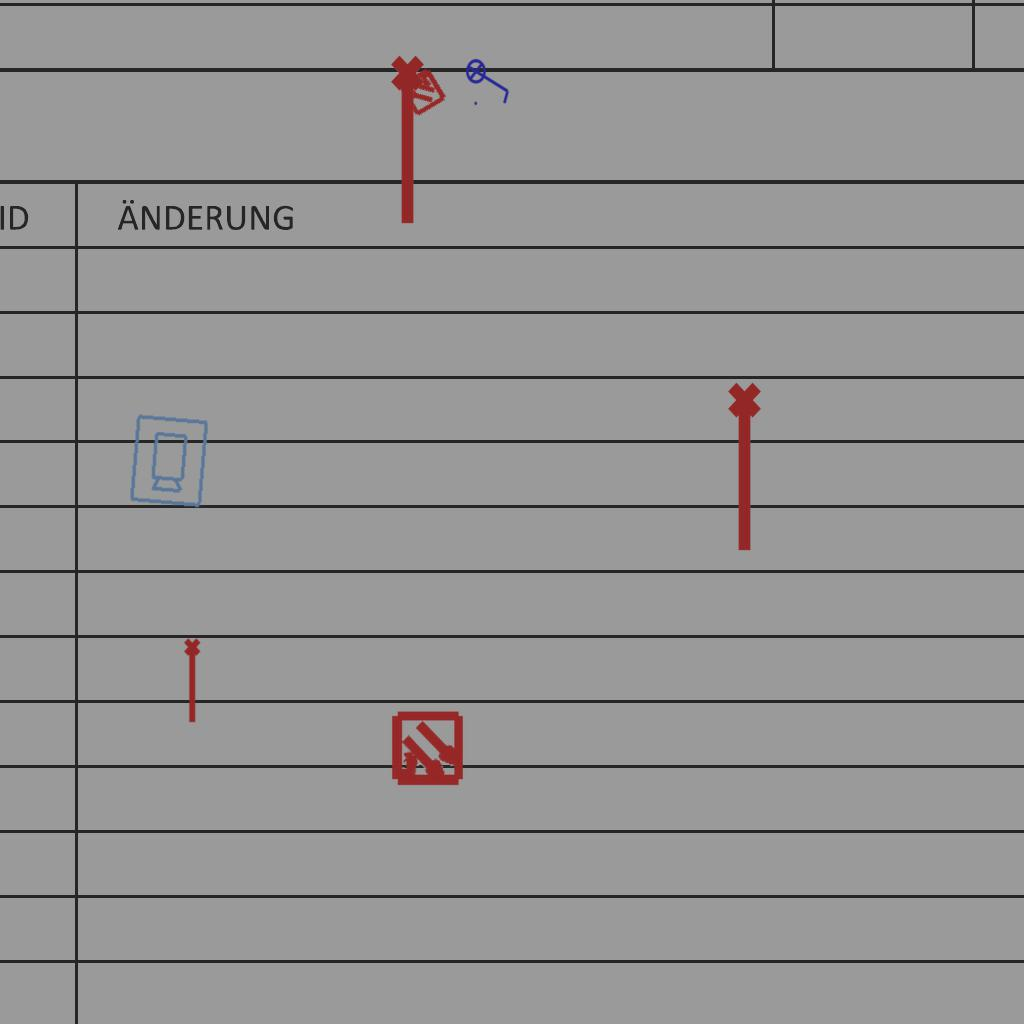ASR_Ansaugoeffnung: (724, 380, 770, 556), (387, 53, 433, 229), (182, 637, 205, 725)
Ausschalter_beleuchtet: (465, 52, 513, 108)
KFO_Kamera_mit_Festobjektiv: (126, 411, 211, 510)
OT_Multisensormelder_(Kombination_RMO_WMD): (371, 694, 484, 807), (383, 52, 461, 130)
